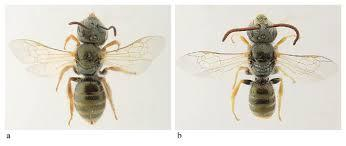Seladonia: (201, 4, 327, 121), (41, 7, 157, 121)
